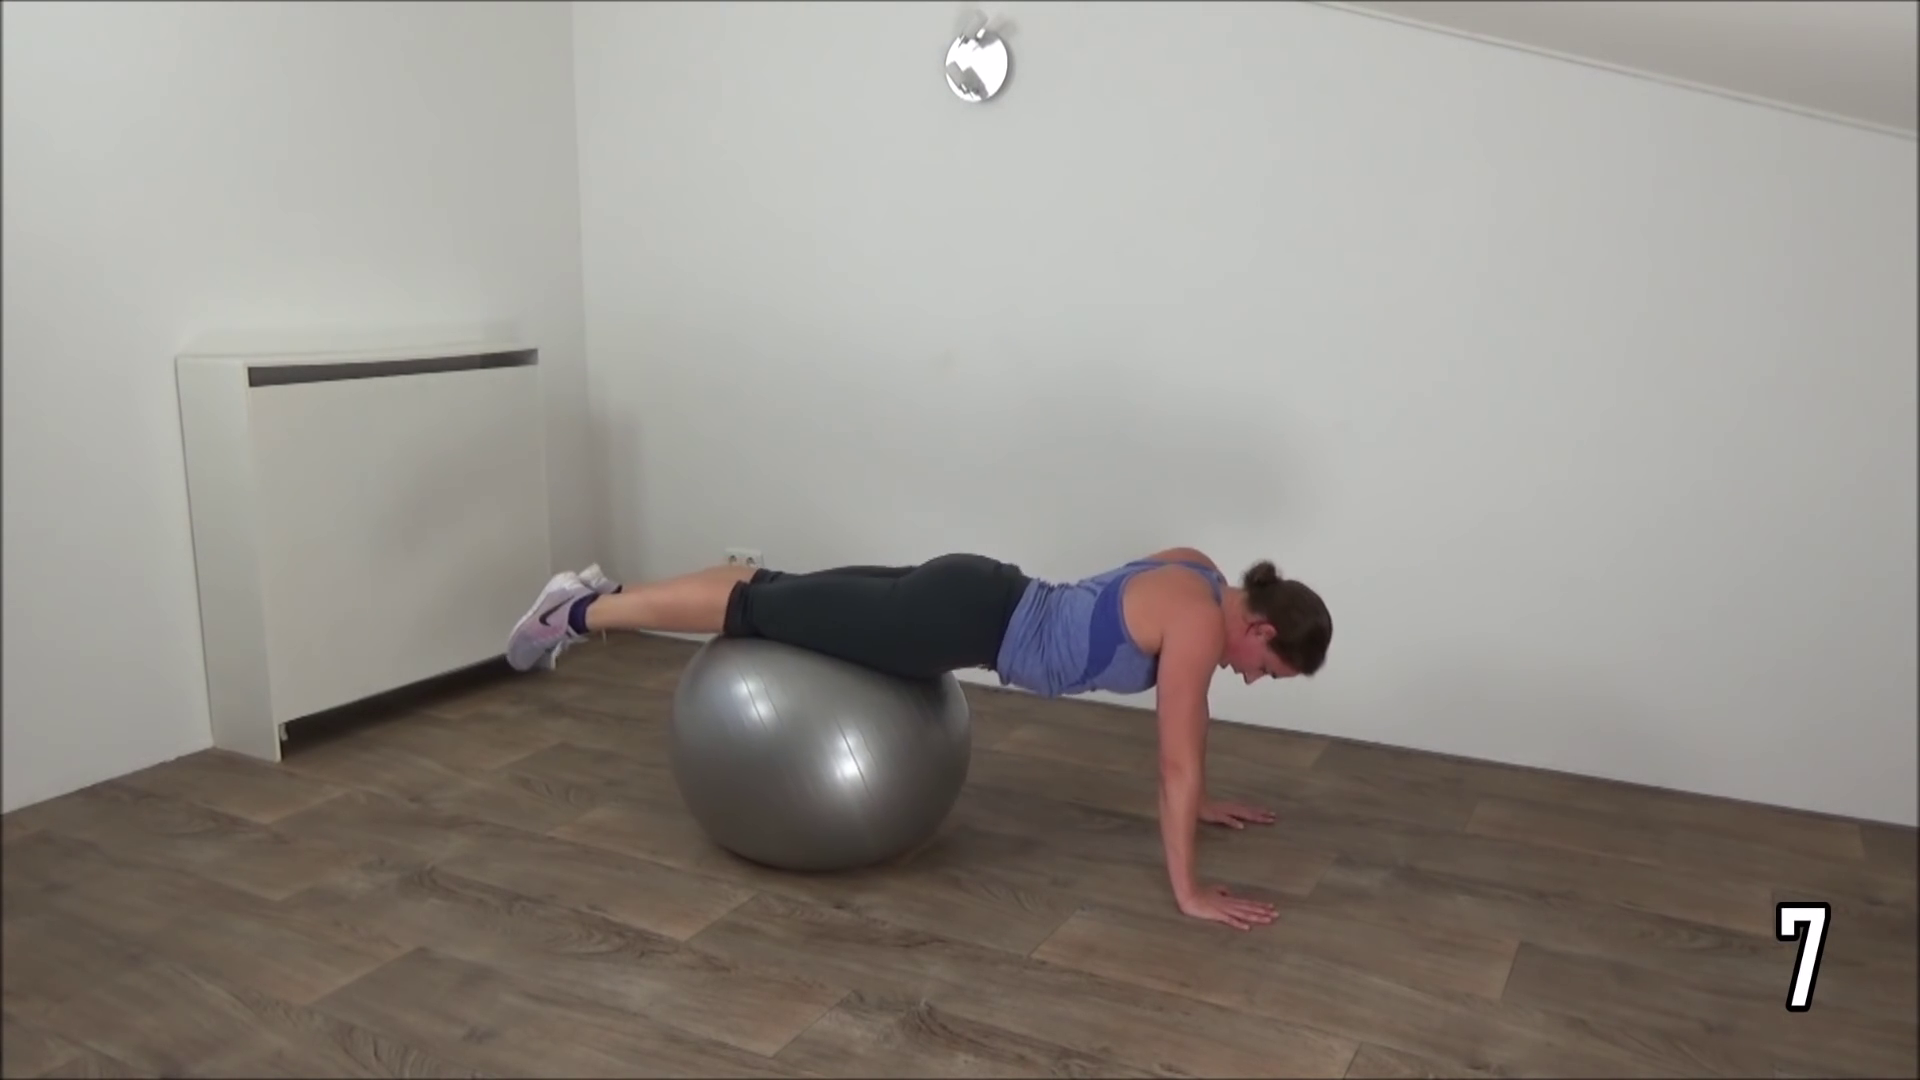yogaball: (651, 622, 978, 891)
